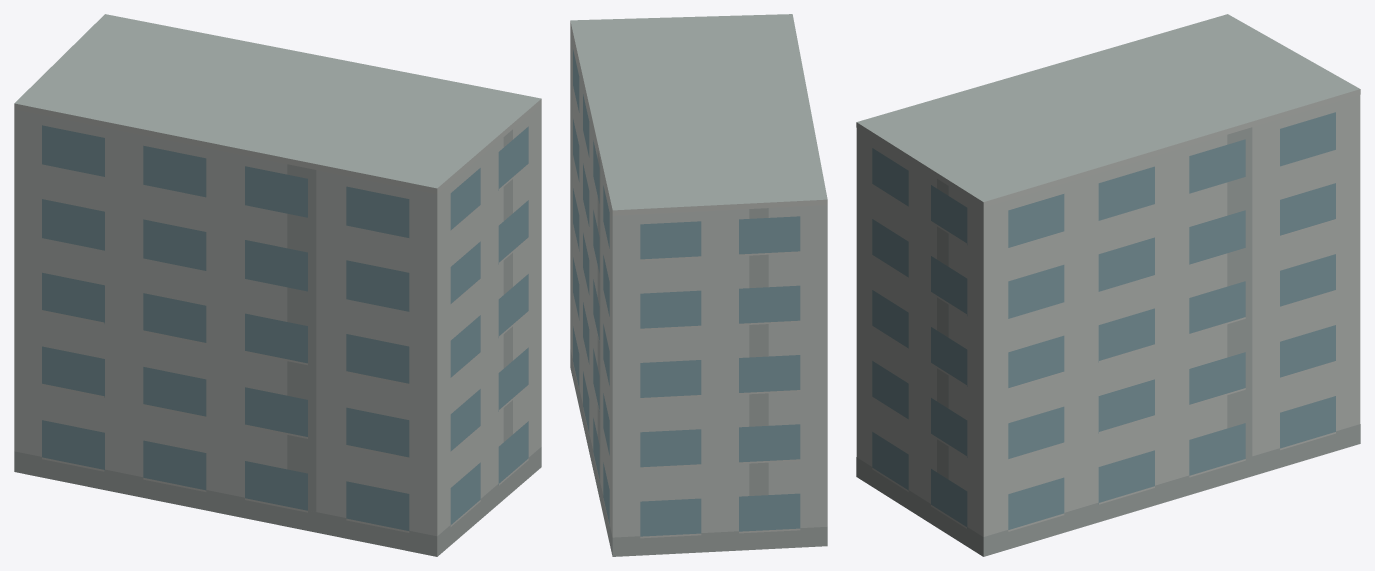
Rendered from survey-upis-32695806.glb.
3 renders of one model, left to right at view 1: azimuth 30°, elevation 25°; view 2: azimuth 150°, elevation 25°; view 3: azimuth 270°, elevation 25°, orthographic. The views are drawn at different scales.
Visible parts, largest first — view 1: survey-upis-32695806.tmp; view 2: survey-upis-32695806.tmp; view 3: survey-upis-32695806.tmp.
Boxes of the visible parts, x1,y1,x2,y2 form: survey-upis-32695806.tmp: [14, 14, 541, 556]; survey-upis-32695806.tmp: [570, 14, 827, 556]; survey-upis-32695806.tmp: [856, 14, 1360, 556].
Size of the model in its own units: 17.36 by 15.25 by 19.65.
